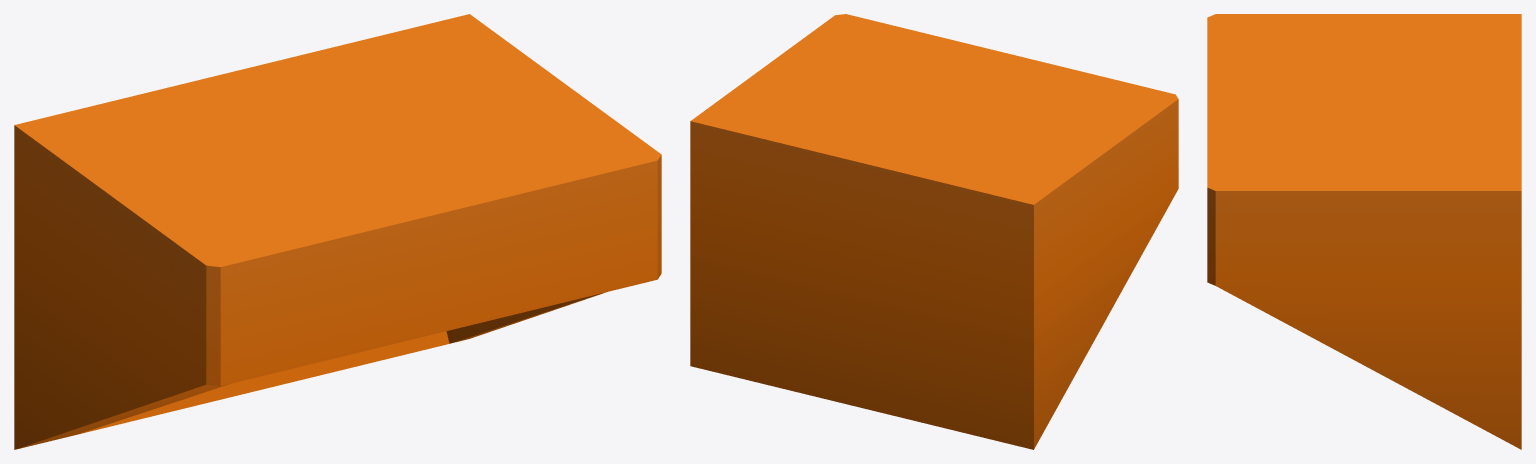
The model's file is Kitchen_Exhaust_01_C03.fbx.
The picture shows the model from 3 angles, left to right: view 1: azimuth 30°, elevation 25°; view 2: azimuth 150°, elevation 25°; view 3: azimuth 270°, elevation 25°; orthographic projection. The views are drawn at different scales.
Visible parts, largest first — view 1: Kitchen_Exhaust_01_C03; view 2: Kitchen_Exhaust_01_C03; view 3: Kitchen_Exhaust_01_C03.
Part boxes in pixels (<box>): Kitchen_Exhaust_01_C03: <box>14,14,661,449</box>; Kitchen_Exhaust_01_C03: <box>690,14,1178,449</box>; Kitchen_Exhaust_01_C03: <box>1207,14,1521,449</box>.
Size of the model in its own units: 100 by 68.18 by 75.
